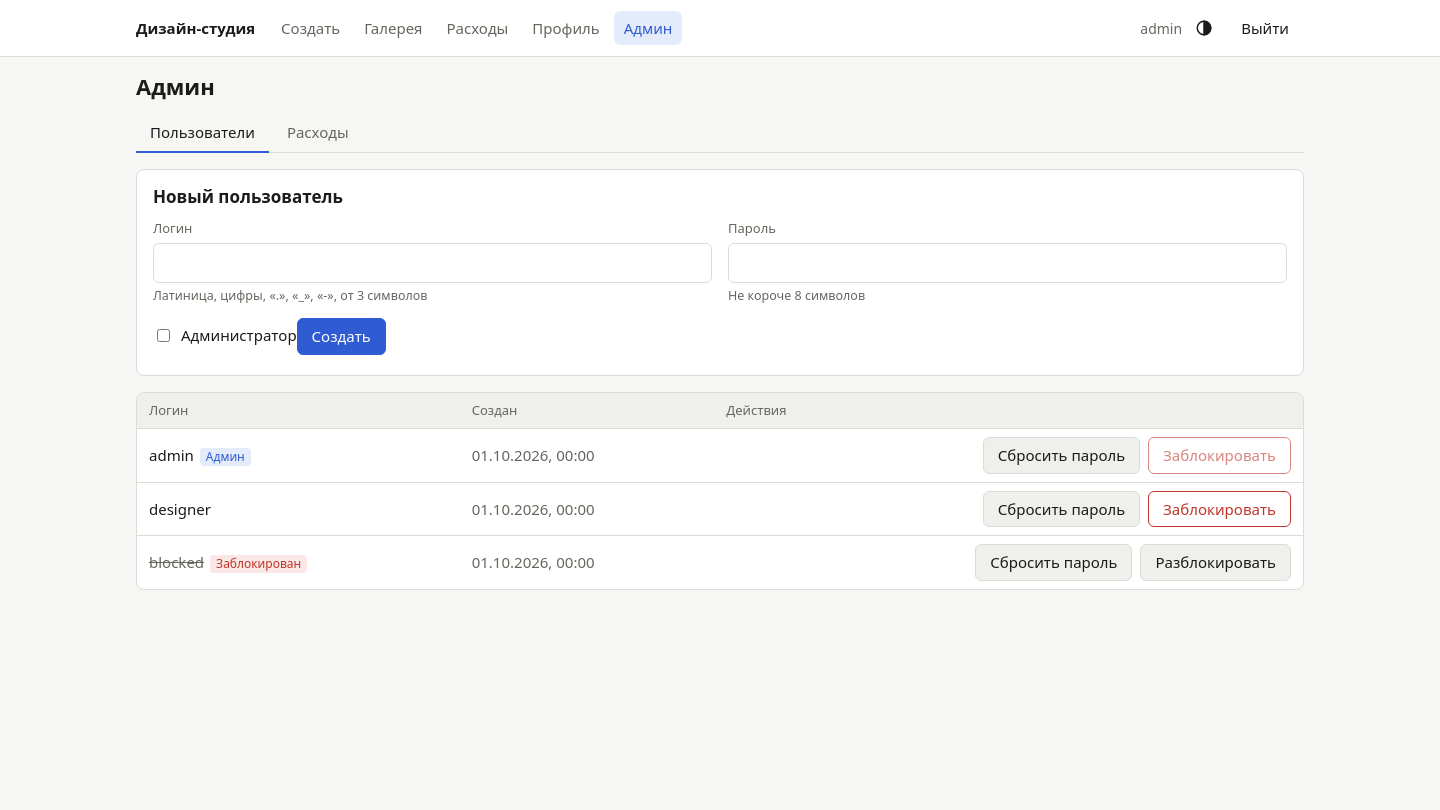
Test: T14 · 5: доступ и вкладки › вкладки переключаются и запоминаются в адресе
The width and height of the screenshot is (1440, 810).
Check: the table with test id "users-table" is shown, box [137,393,1303,589]
Click the tab with test id "tab-spending": (318, 133) [273,112,363,153]
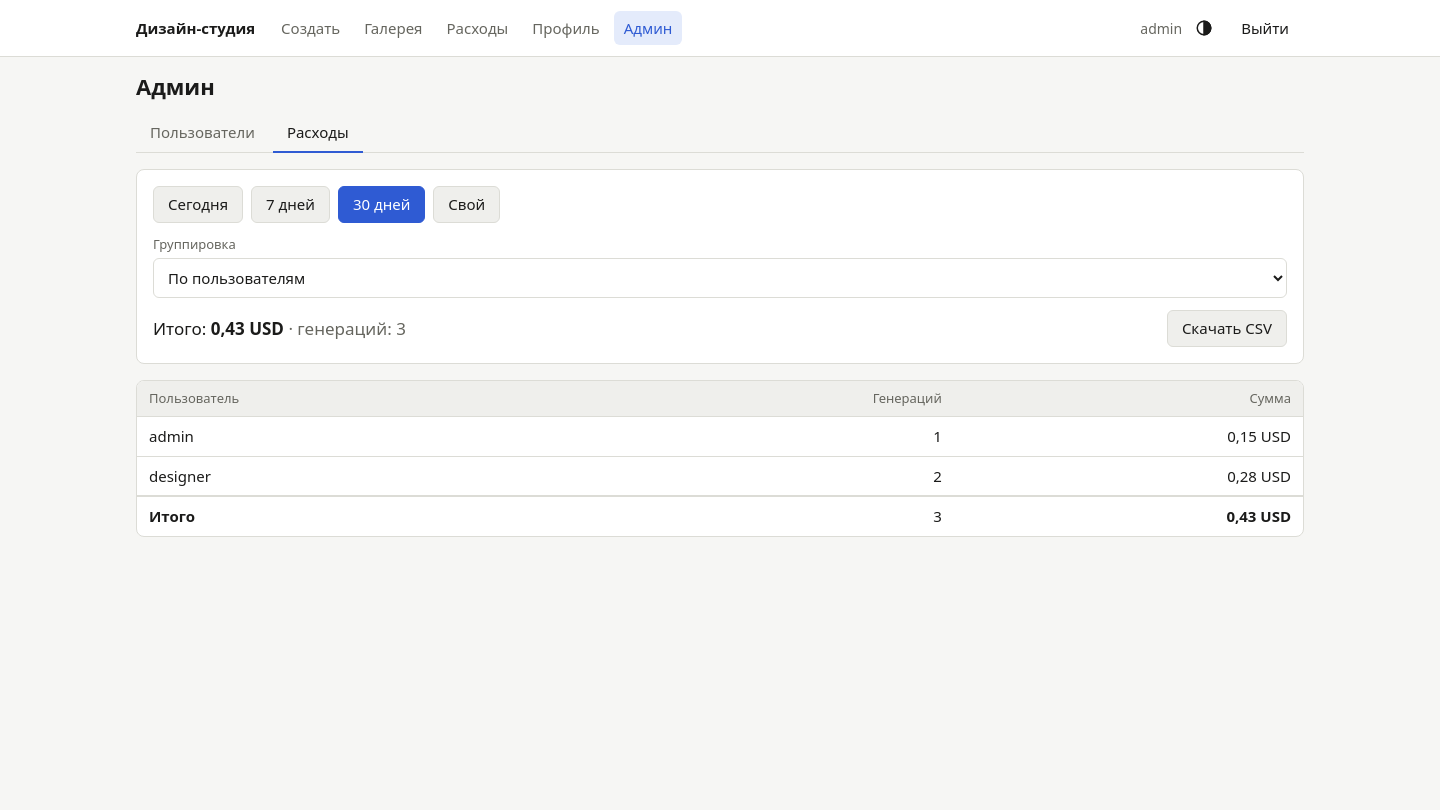
Check: the element with test id "spend-total" is shown, box [153,316,406,341]
